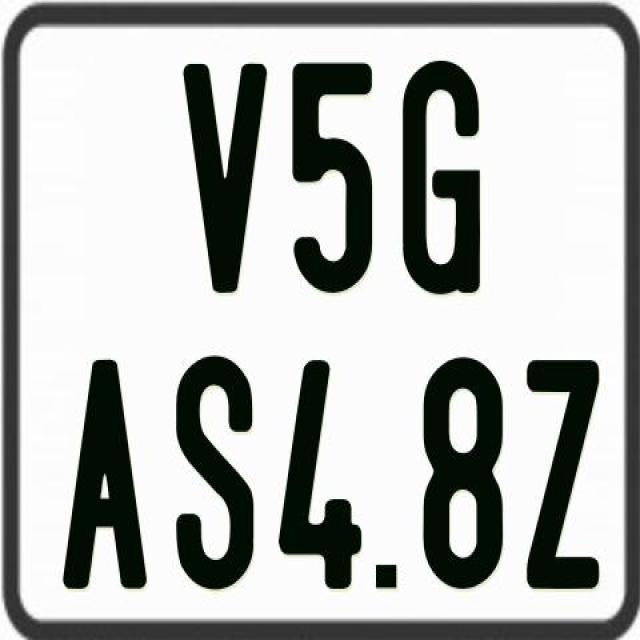4: (274, 358, 358, 597)
5: (289, 59, 372, 298)
8: (420, 353, 503, 588)
A: (60, 360, 148, 595)
G: (398, 58, 482, 292)
S: (176, 352, 253, 590)
V: (180, 59, 268, 294)
Z: (526, 357, 598, 587)
